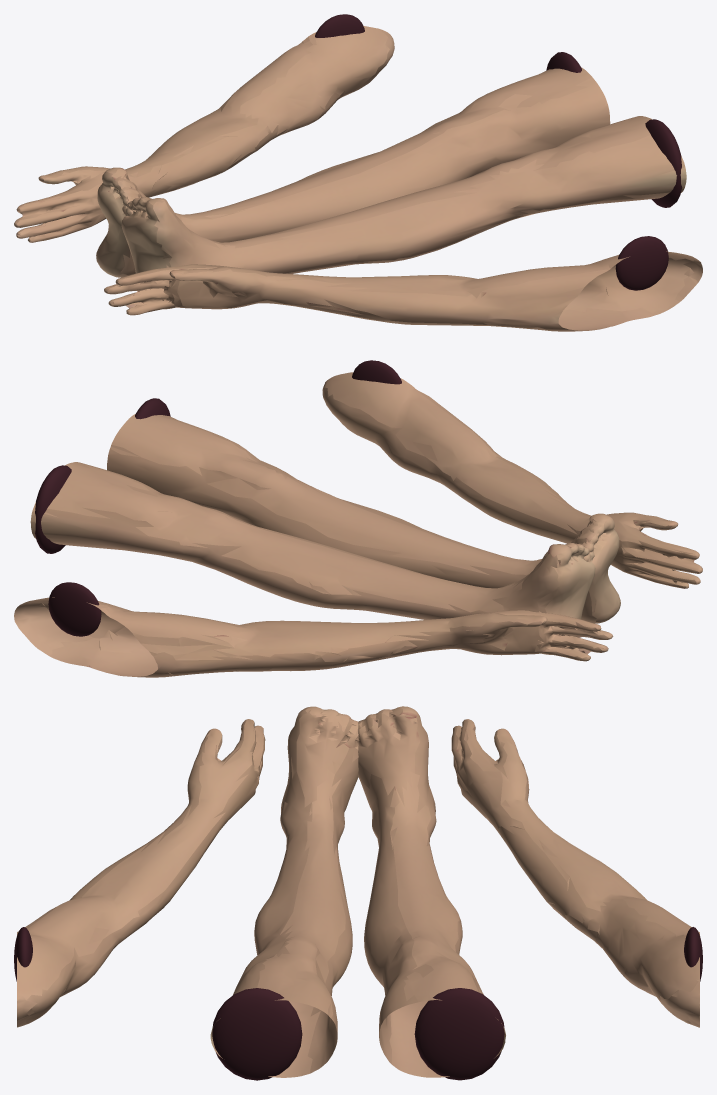
The model's file is contestant-13-detached-limbs.glb.
3 renders of one model, top to bottom at view 1: azimuth 30°, elevation 25°; view 2: azimuth 150°, elevation 25°; view 3: azimuth 270°, elevation 25°, orthographic. The views are drawn at different scales.
Visible parts, largest first — view 1: Banquet_Victim_Meshy_Right_Leg_Core, Banquet_Victim_Meshy_Right_Arm_Core, Banquet_Victim_Meshy_Left_Leg_Core, Banquet_Victim_Meshy_Left_Arm_Core, Banquet_Victim_Right_Arm_Proximal_Bandage, Banquet_Victim_Right_Leg_Proximal_Bandage, Banquet_Victim_Left_Arm_Proximal_Bandage, Banquet_Victim_Left_Leg_Proximal_Bandage; view 2: Banquet_Victim_Meshy_Left_Leg_Core, Banquet_Victim_Meshy_Left_Arm_Core, Banquet_Victim_Meshy_Right_Leg_Core, Banquet_Victim_Meshy_Right_Arm_Core, Banquet_Victim_Left_Arm_Proximal_Bandage, Banquet_Victim_Left_Leg_Proximal_Bandage, Banquet_Victim_Right_Arm_Proximal_Bandage, Banquet_Victim_Right_Leg_Proximal_Bandage; view 3: Banquet_Victim_Meshy_Right_Leg_Core, Banquet_Victim_Meshy_Left_Leg_Core, Banquet_Victim_Meshy_Left_Arm_Core, Banquet_Victim_Meshy_Right_Arm_Core, Banquet_Victim_Right_Leg_Proximal_Bandage, Banquet_Victim_Left_Leg_Proximal_Bandage, Banquet_Victim_Right_Arm_Proximal_Bandage, Banquet_Victim_Left_Arm_Proximal_Bandage.
Boxes of the visible parts, x1,y1,x2,y2 form: Banquet_Victim_Meshy_Right_Leg_Core: [121, 116, 686, 309]; Banquet_Victim_Meshy_Right_Arm_Core: [104, 251, 702, 331]; Banquet_Victim_Meshy_Left_Leg_Core: [96, 67, 610, 277]; Banquet_Victim_Meshy_Left_Arm_Core: [14, 26, 394, 242]; Banquet_Victim_Right_Arm_Proximal_Bandage: [615, 236, 668, 290]; Banquet_Victim_Right_Leg_Proximal_Bandage: [645, 119, 682, 207]; Banquet_Victim_Left_Arm_Proximal_Bandage: [315, 14, 364, 37]; Banquet_Victim_Left_Leg_Proximal_Bandage: [546, 52, 581, 72]; Banquet_Victim_Meshy_Left_Leg_Core: [30, 462, 595, 654]; Banquet_Victim_Meshy_Left_Arm_Core: [14, 597, 613, 677]; Banquet_Victim_Meshy_Right_Leg_Core: [107, 414, 620, 623]; Banquet_Victim_Meshy_Right_Arm_Core: [322, 372, 702, 588]; Banquet_Victim_Left_Arm_Proximal_Bandage: [48, 582, 101, 636]; Banquet_Victim_Left_Leg_Proximal_Bandage: [35, 465, 71, 553]; Banquet_Victim_Right_Arm_Proximal_Bandage: [352, 360, 401, 384]; Banquet_Victim_Right_Leg_Proximal_Bandage: [135, 398, 170, 419]; Banquet_Victim_Meshy_Right_Leg_Core: [210, 706, 358, 1077]; Banquet_Victim_Meshy_Left_Leg_Core: [358, 706, 505, 1077]; Banquet_Victim_Meshy_Left_Arm_Core: [451, 719, 699, 1027]; Banquet_Victim_Meshy_Right_Arm_Core: [17, 719, 265, 1027]; Banquet_Victim_Right_Leg_Proximal_Bandage: [212, 988, 302, 1080]; Banquet_Victim_Left_Leg_Proximal_Bandage: [414, 988, 504, 1080]; Banquet_Victim_Right_Arm_Proximal_Bandage: [14, 927, 32, 981]; Banquet_Victim_Left_Arm_Proximal_Bandage: [684, 927, 702, 981].
Bounding box in the file's own units: 0.8174 × 0.15 × 0.78.
2 materials, 1 textured.
